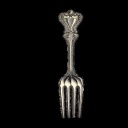fork: (45, 6, 101, 123)
